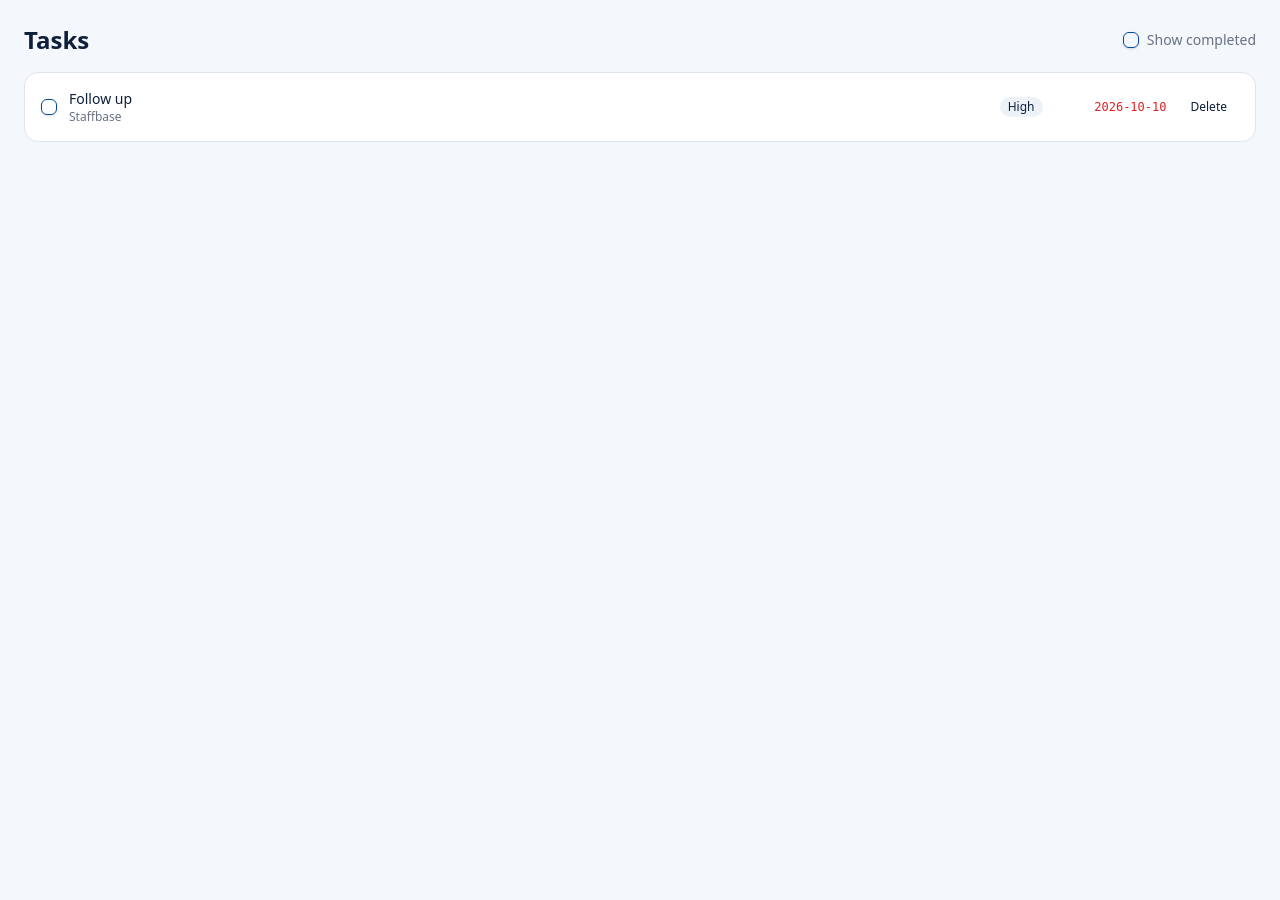
Test: Task completion confirm popup › reopens instantly without asking
The image size is (1280, 900).
Later steps or results of the test are not shown.
Check: the text "Follow up" is shown, box [69, 89, 132, 108]
Step 1. Click the checkbox next to "Follow up" → x=49, y=107, box [41, 99, 57, 115]
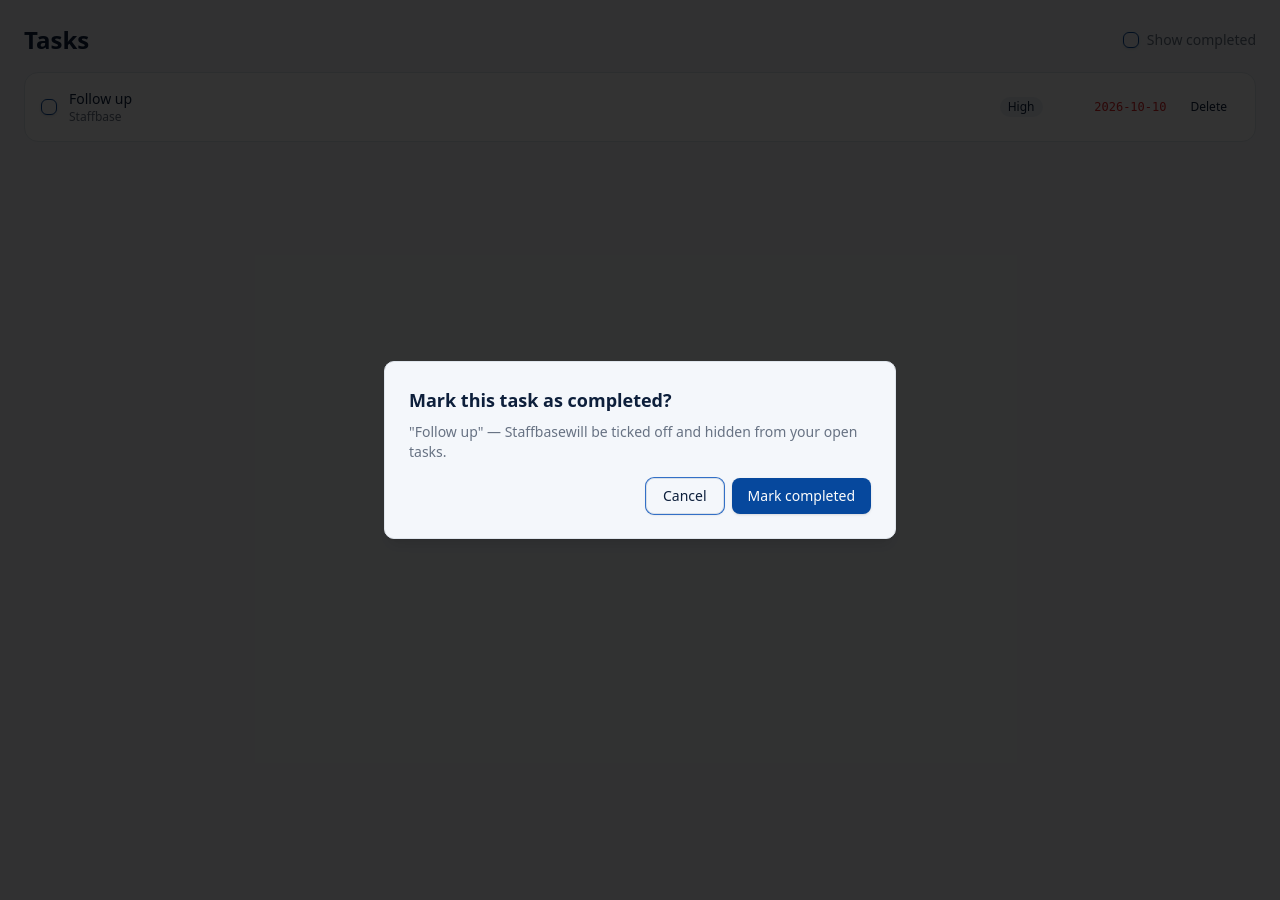
Check: the dialog is shown, box [384, 361, 896, 539]
Step 2. Click the button "Mark completed" → x=801, y=496, box [732, 478, 871, 514]
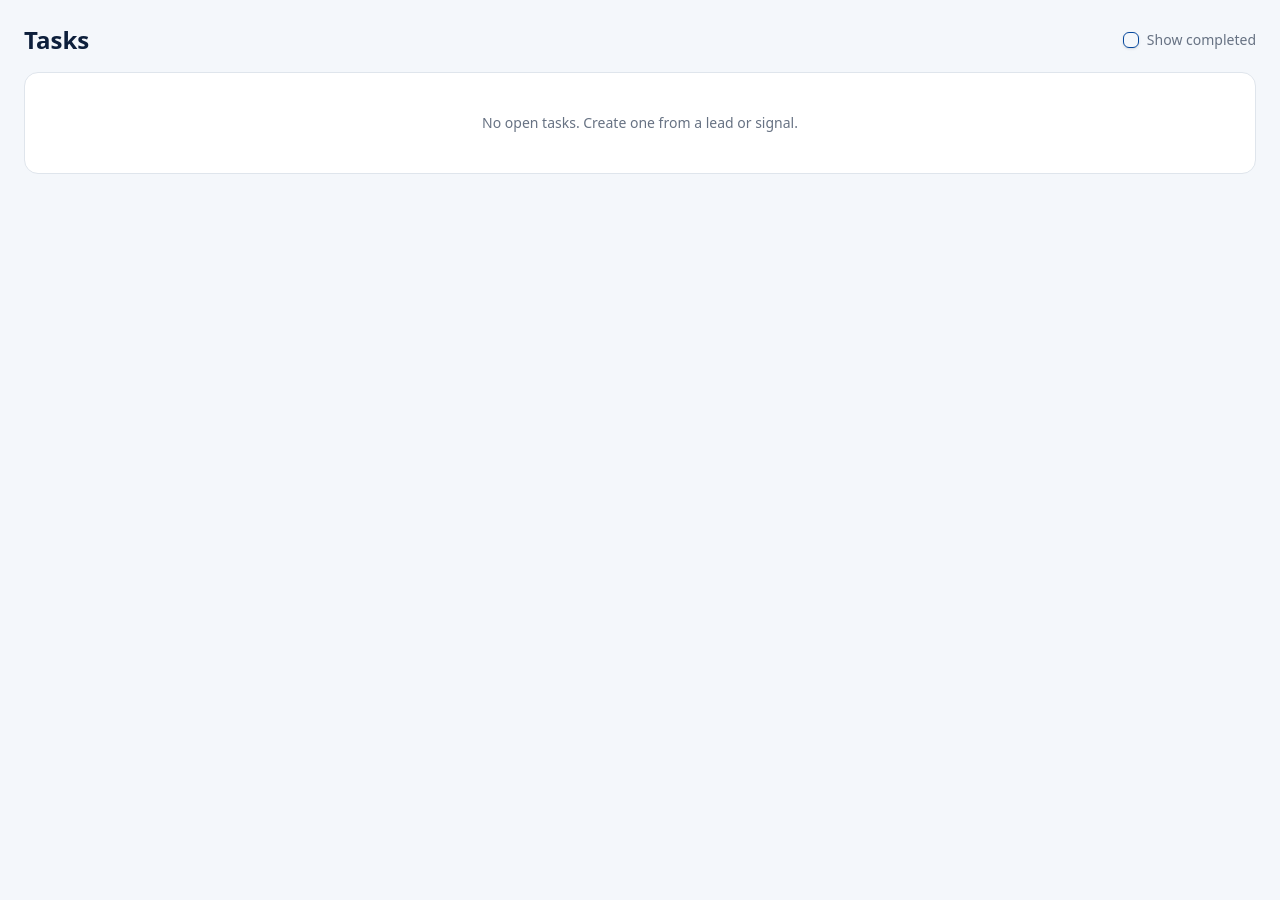
Check: the text "Follow up" is gone
Step 3. Click the checkbox → x=1131, y=40, box [1123, 32, 1139, 48]
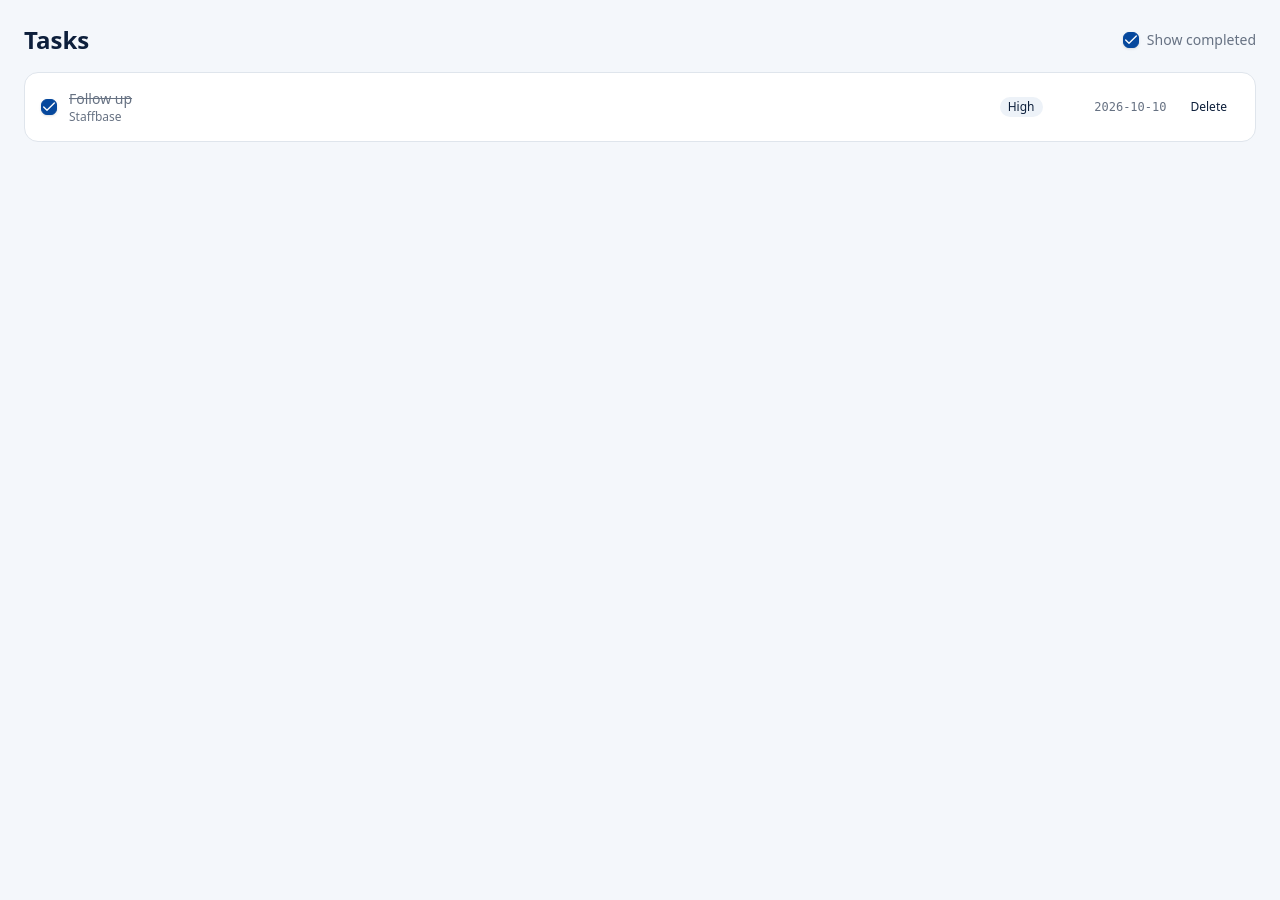
Check: the text "Follow up" is shown, box [69, 89, 132, 108]
